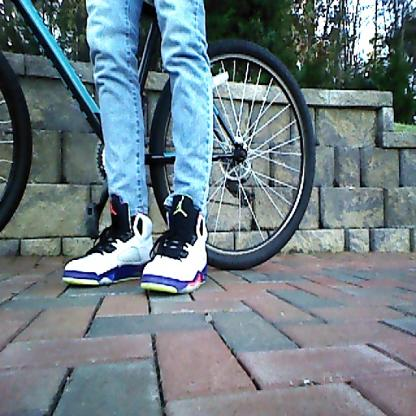Sidewalk: (0, 252, 416, 416)
